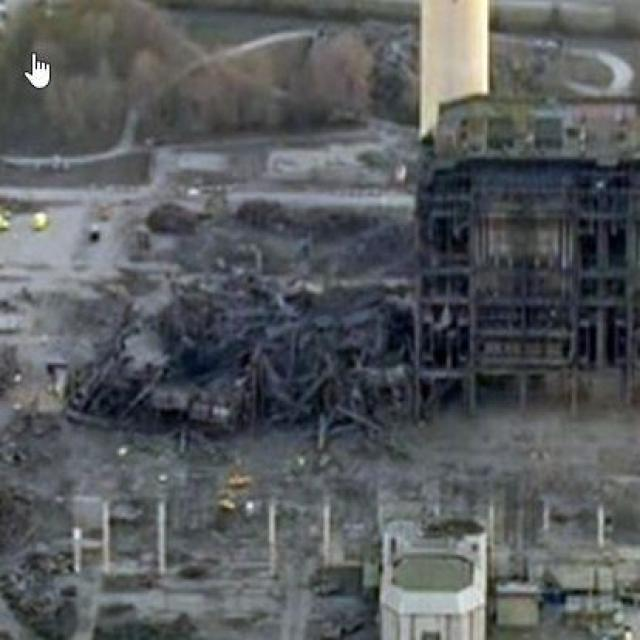collapsed_building: (54, 259, 405, 434)
